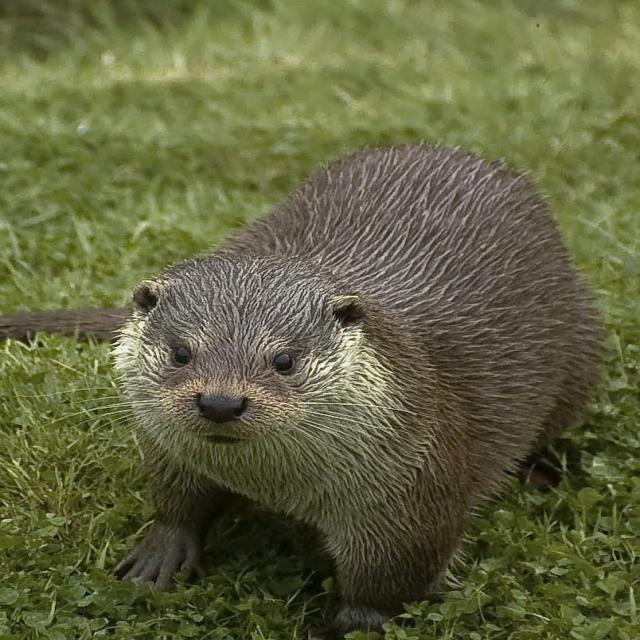otter: (113, 142, 600, 630)
